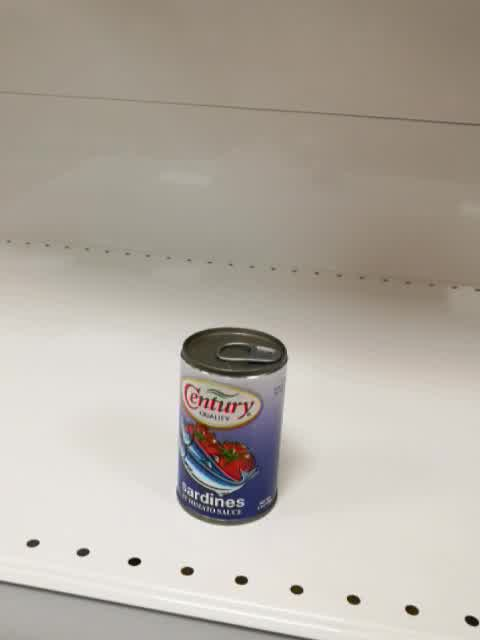sardine: (177, 324, 289, 527)
